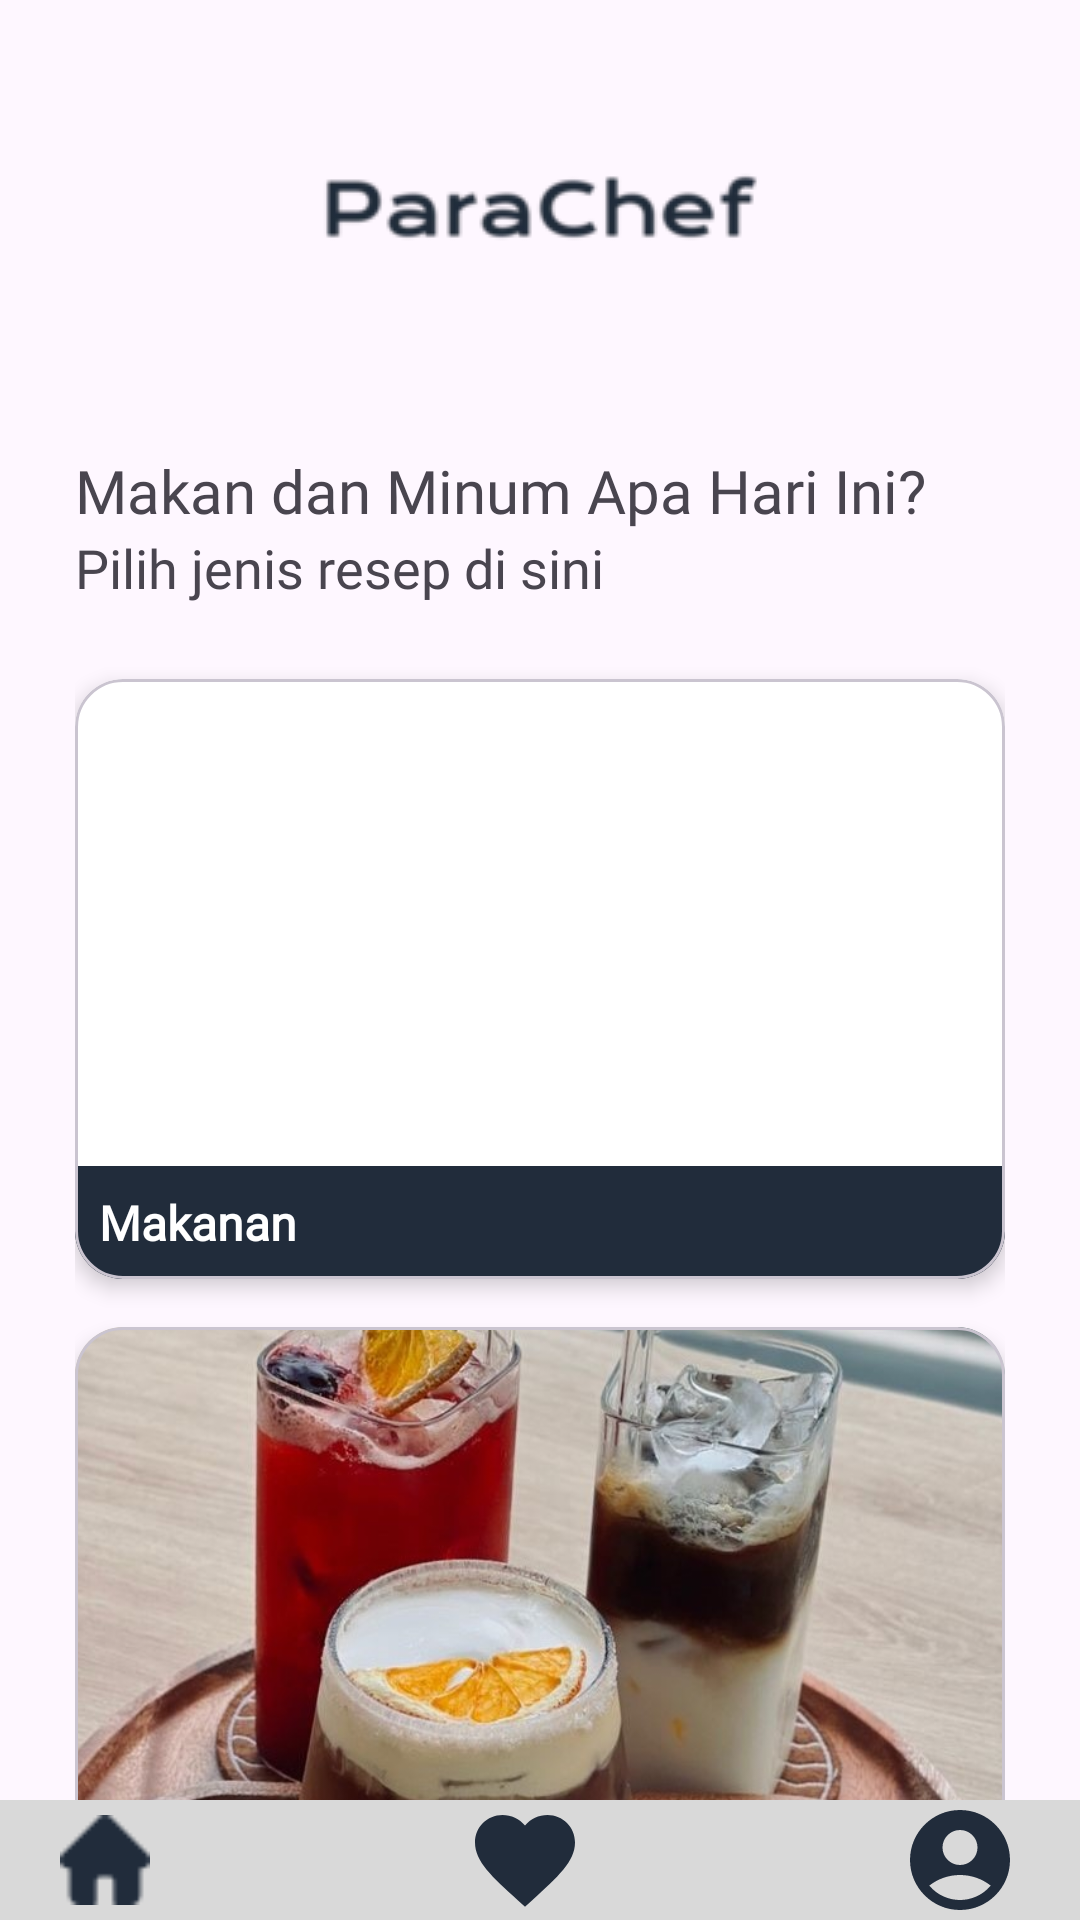

Locate icon controls on the screen. Image size 1080px×1920px, boxes as (x1, y1, x2, y2).
favadd: (475, 1815, 575, 1907)
navhome: (60, 1815, 150, 1905)
profile: (910, 1810, 1010, 1910)
